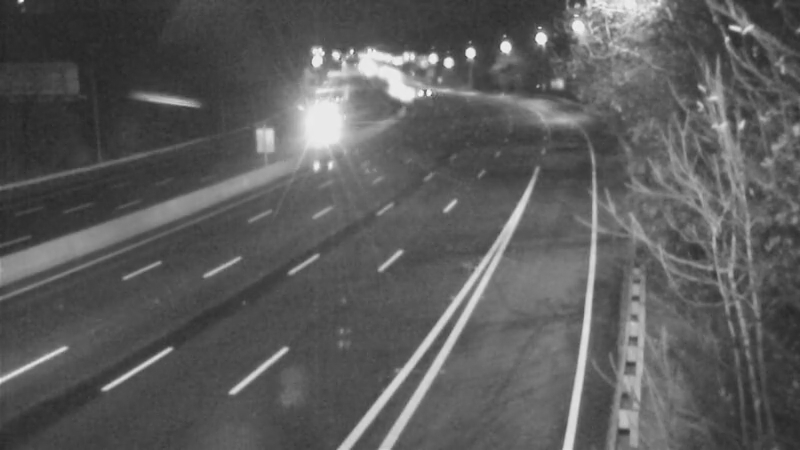vehicle: (373, 63, 423, 113), (401, 69, 451, 119), (379, 70, 429, 120), (294, 107, 344, 157)
